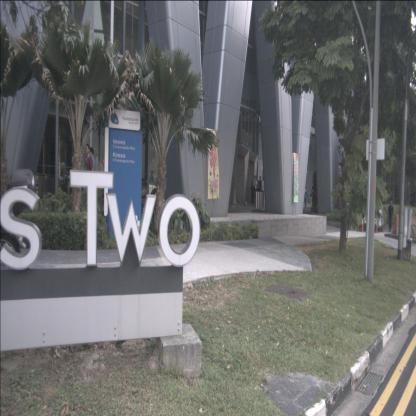barrier: (392, 214, 403, 234)
cone: (360, 219, 364, 232), (375, 219, 378, 233), (381, 220, 384, 232)
